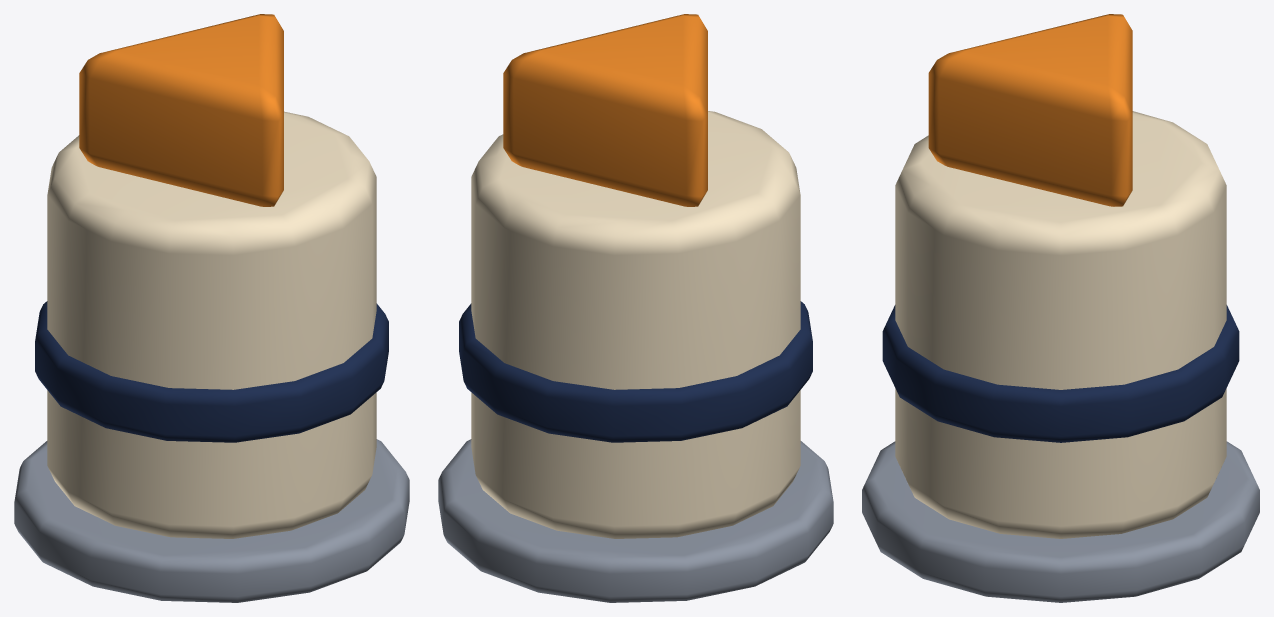
Rendered from Part_Spectrometer.glb.
The picture shows the model from 3 angles, left to right: view 1: azimuth 30°, elevation 25°; view 2: azimuth 150°, elevation 25°; view 3: azimuth 270°, elevation 25°; orthographic projection.
Visible parts, largest first — view 1: Part_Spectrometer.Body, Part_Spectrometer.Prism, Part_Spectrometer.Plinth, Part_Spectrometer.Band; view 2: Part_Spectrometer.Body, Part_Spectrometer.Prism, Part_Spectrometer.Plinth, Part_Spectrometer.Band; view 3: Part_Spectrometer.Body, Part_Spectrometer.Prism, Part_Spectrometer.Plinth, Part_Spectrometer.Band.
Part boxes in pixels (box(x1,y1,x2,y2)): Part_Spectrometer.Body: box(47, 111, 376, 538); Part_Spectrometer.Prism: box(79, 14, 283, 206); Part_Spectrometer.Plinth: box(14, 439, 409, 602); Part_Spectrometer.Band: box(35, 301, 388, 442); Part_Spectrometer.Body: box(471, 111, 800, 538); Part_Spectrometer.Prism: box(503, 14, 707, 206); Part_Spectrometer.Plinth: box(438, 439, 833, 602); Part_Spectrometer.Band: box(459, 301, 812, 442); Part_Spectrometer.Body: box(895, 111, 1226, 538); Part_Spectrometer.Prism: box(928, 14, 1132, 206); Part_Spectrometer.Plinth: box(862, 441, 1259, 602); Part_Spectrometer.Band: box(882, 305, 1239, 442).
Size of the model in its own units: 0.48 by 0.63 by 0.48.
Materials: 1 (1 with a texture image).
